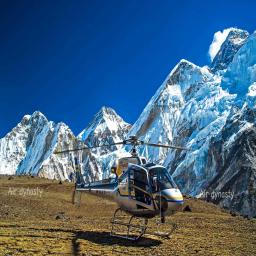helicopter: (48, 129, 200, 246)
